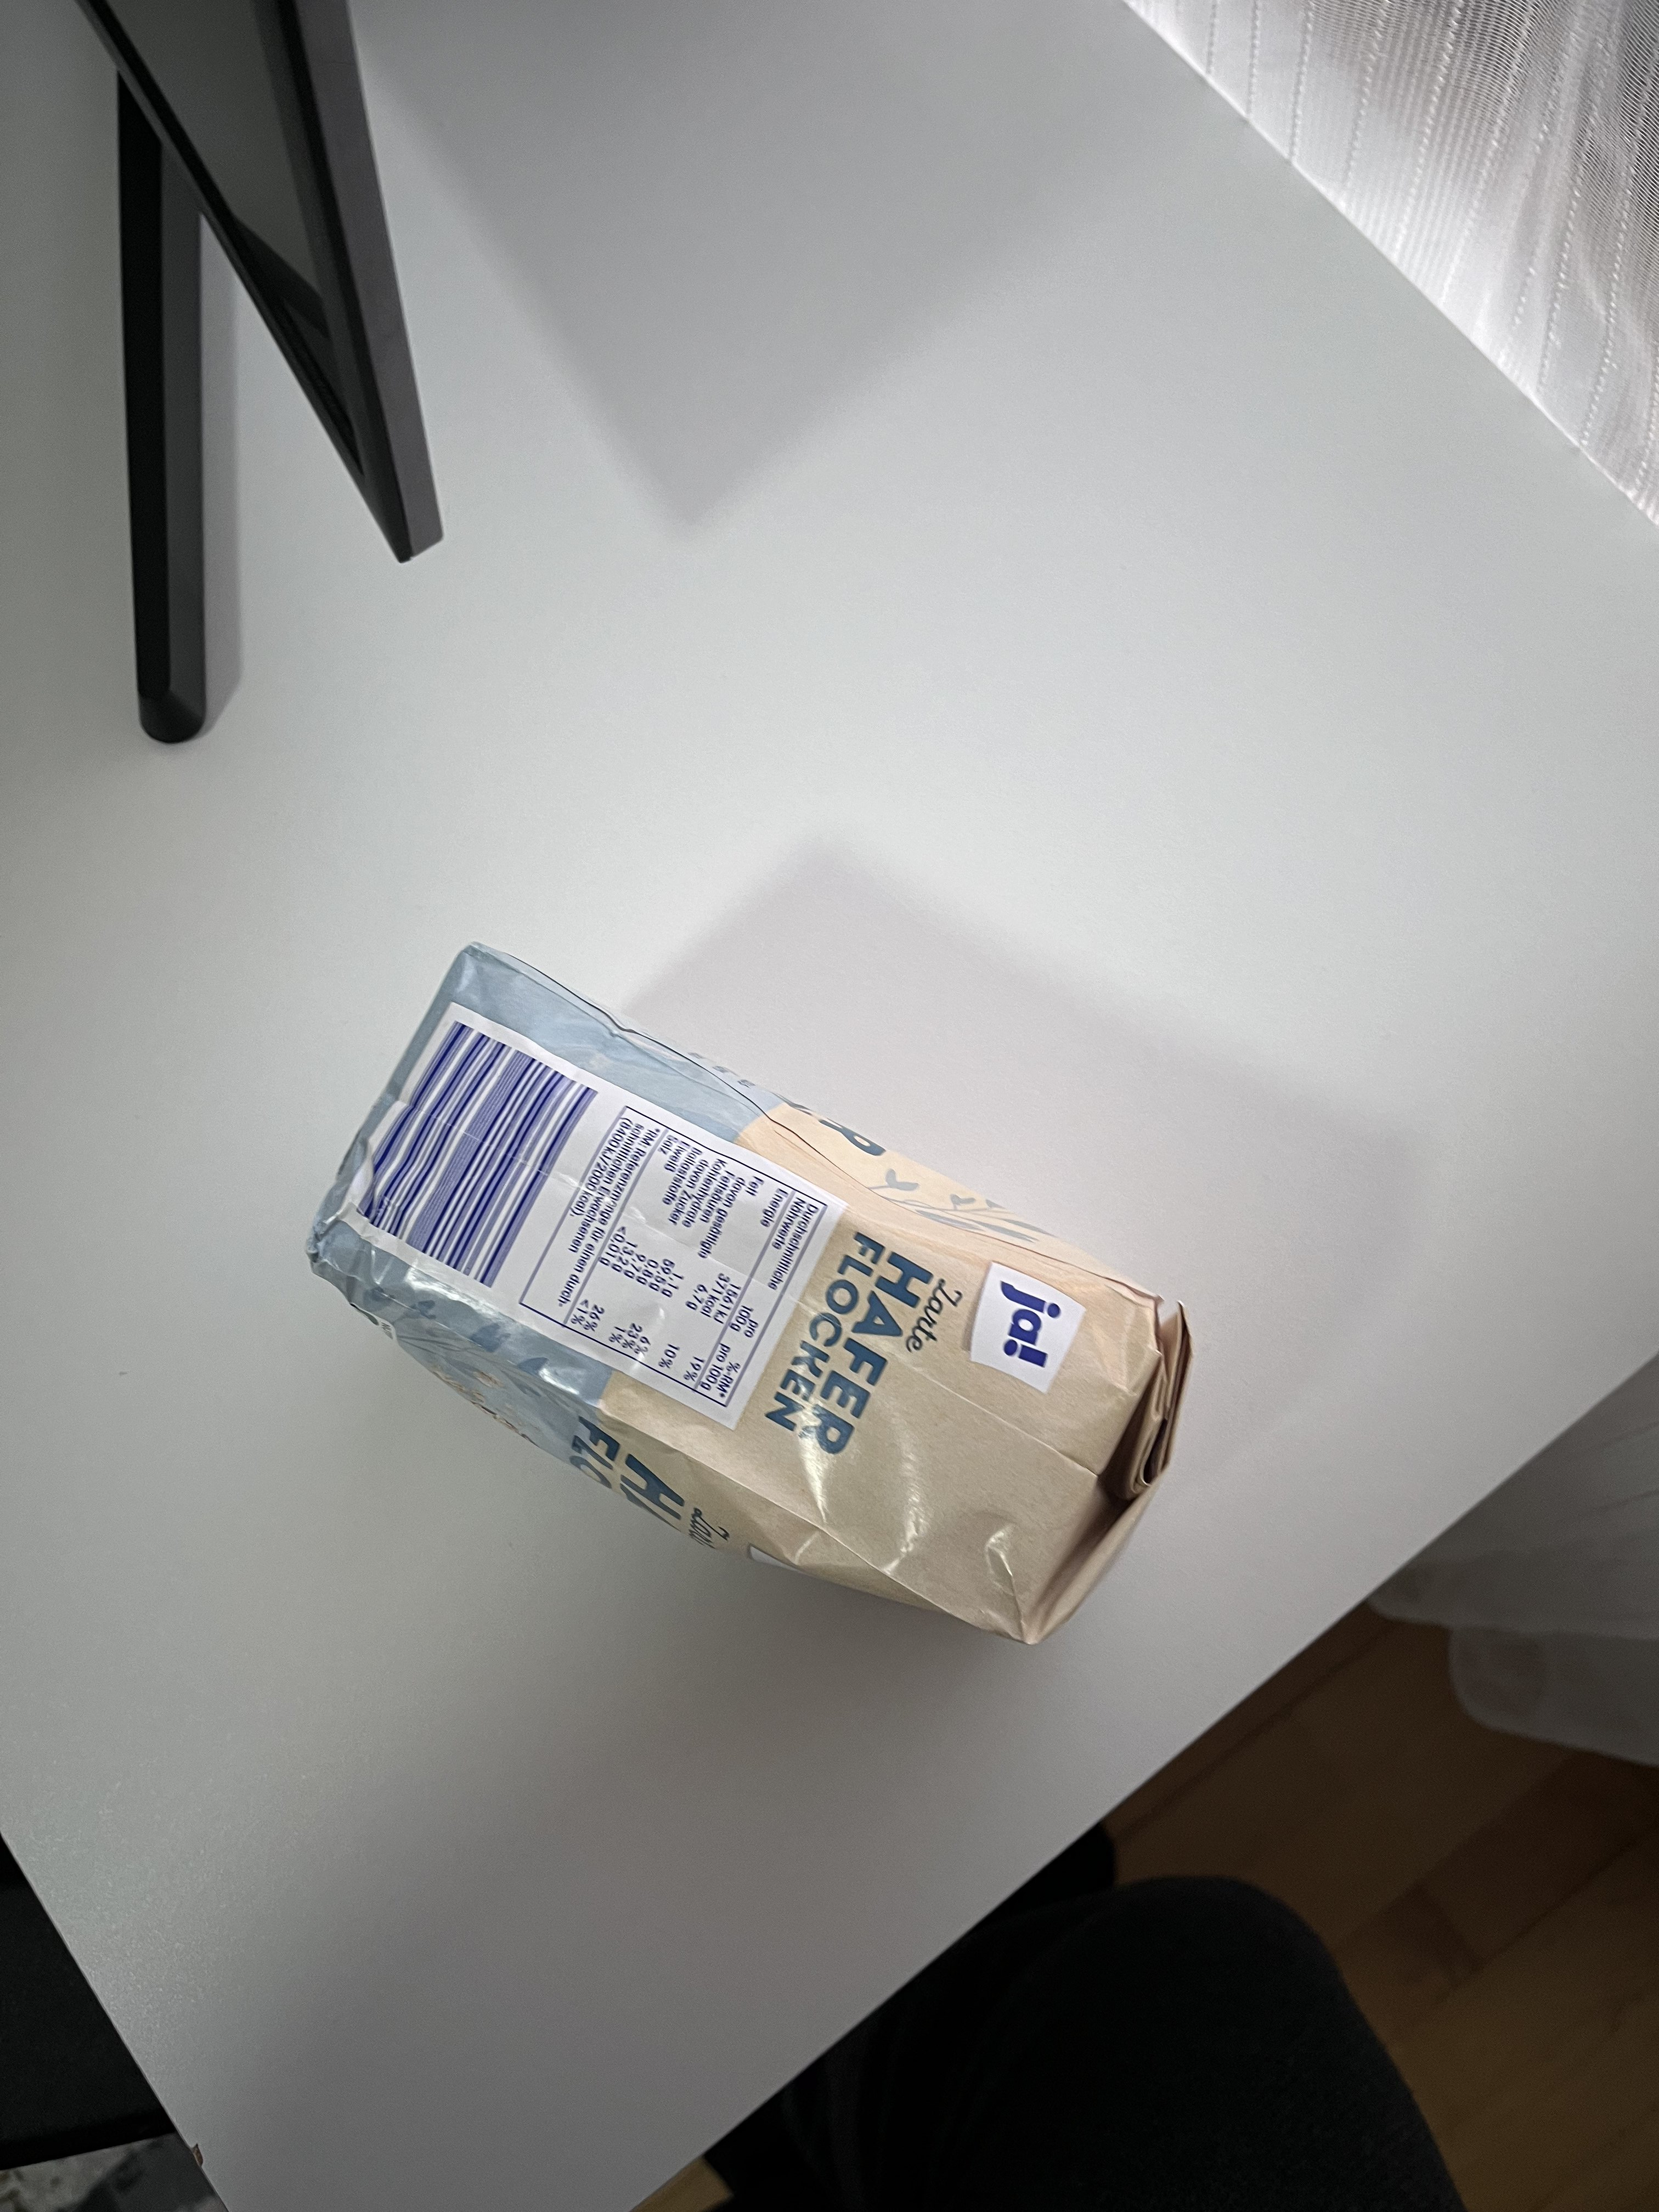haferflocken_ja: (307, 944, 1190, 1648)
